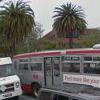Bus: (11, 48, 100, 98)
